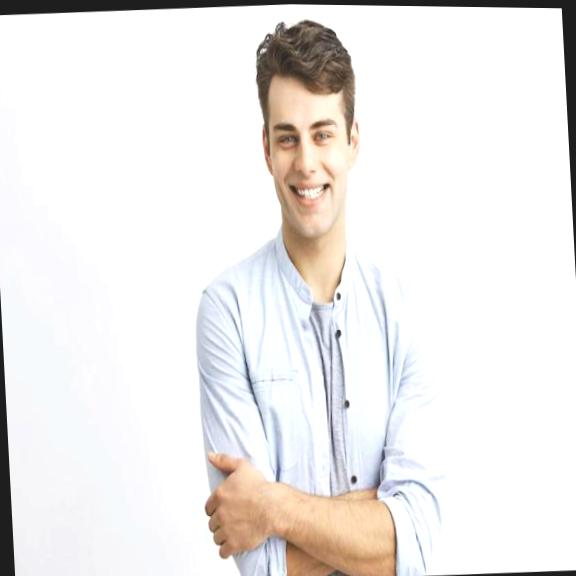no_safety_vest: (181, 241, 463, 576)
